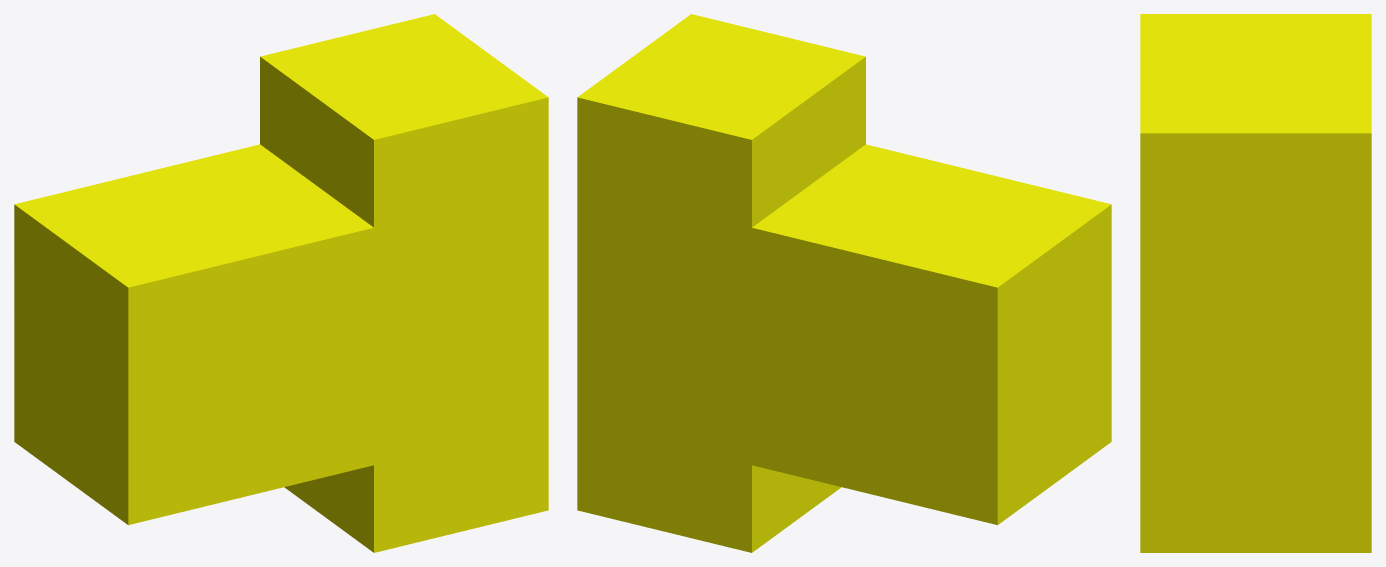
File: nominal.obj
3 renders of one model, left to right at view 1: azimuth 30°, elevation 25°; view 2: azimuth 150°, elevation 25°; view 3: azimuth 270°, elevation 25°, orthographic.
Visible parts, largest first — view 1: nominal; view 2: nominal; view 3: nominal.
Boxes of the visible parts, <box> form: nominal: <box>14,14,548,552</box>; nominal: <box>577,14,1111,552</box>; nominal: <box>1140,14,1371,552</box>.
Size of the model in its own units: 4.26 by 4 by 2.
